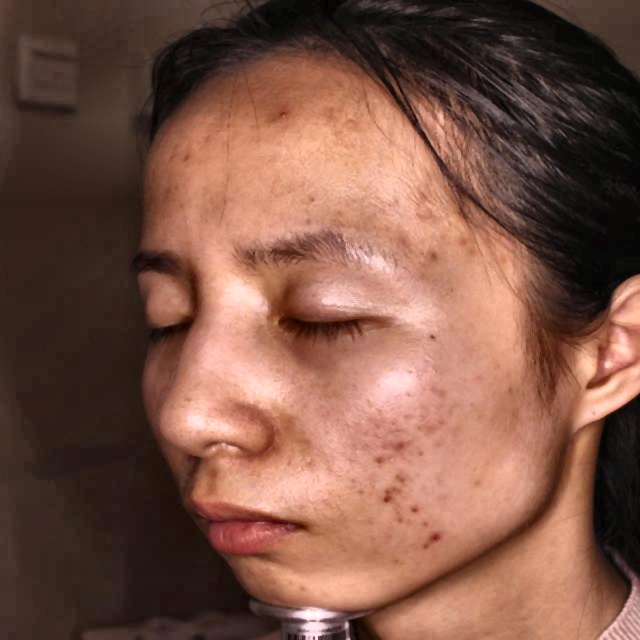pustule: (454, 229, 483, 262), (423, 528, 454, 552), (377, 480, 399, 502), (390, 437, 413, 458), (273, 103, 292, 125), (402, 499, 426, 516)
